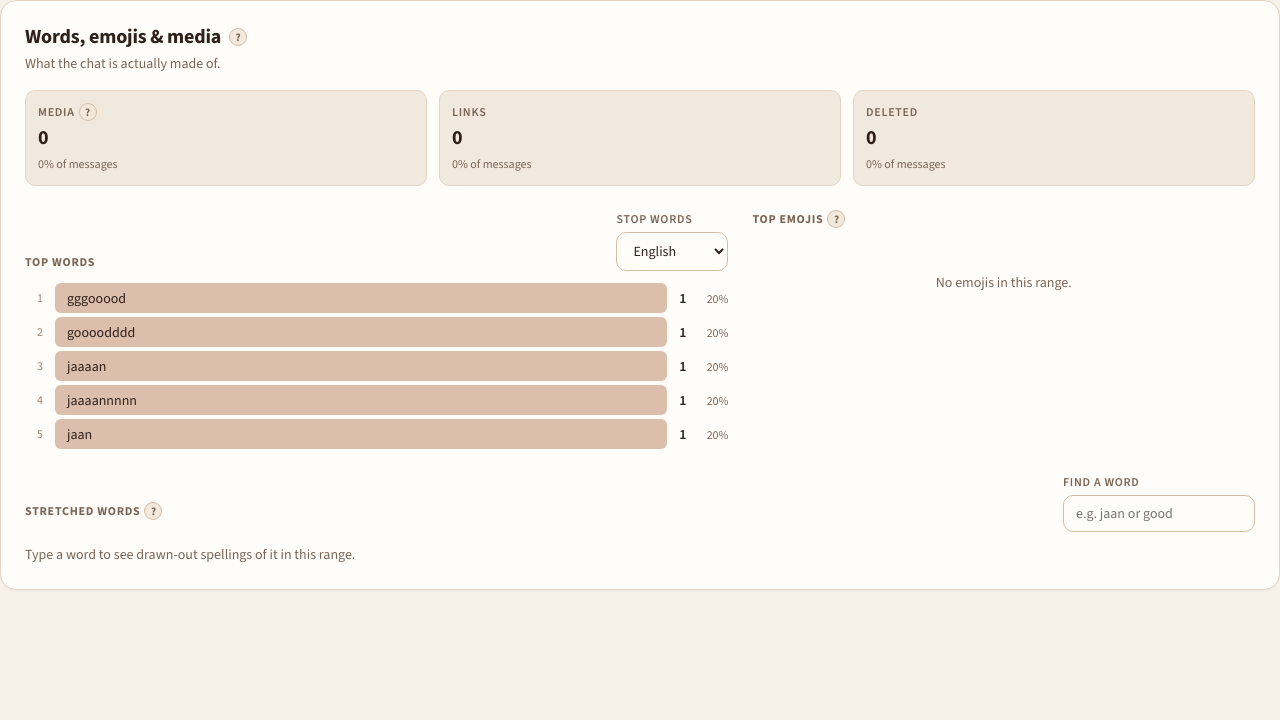
ContentSection › finds stretched spellings of a word the user types
Type "jaan" into the field named "find stretched spellings of a word" at (1159, 514), box [1063,495,1255,532]
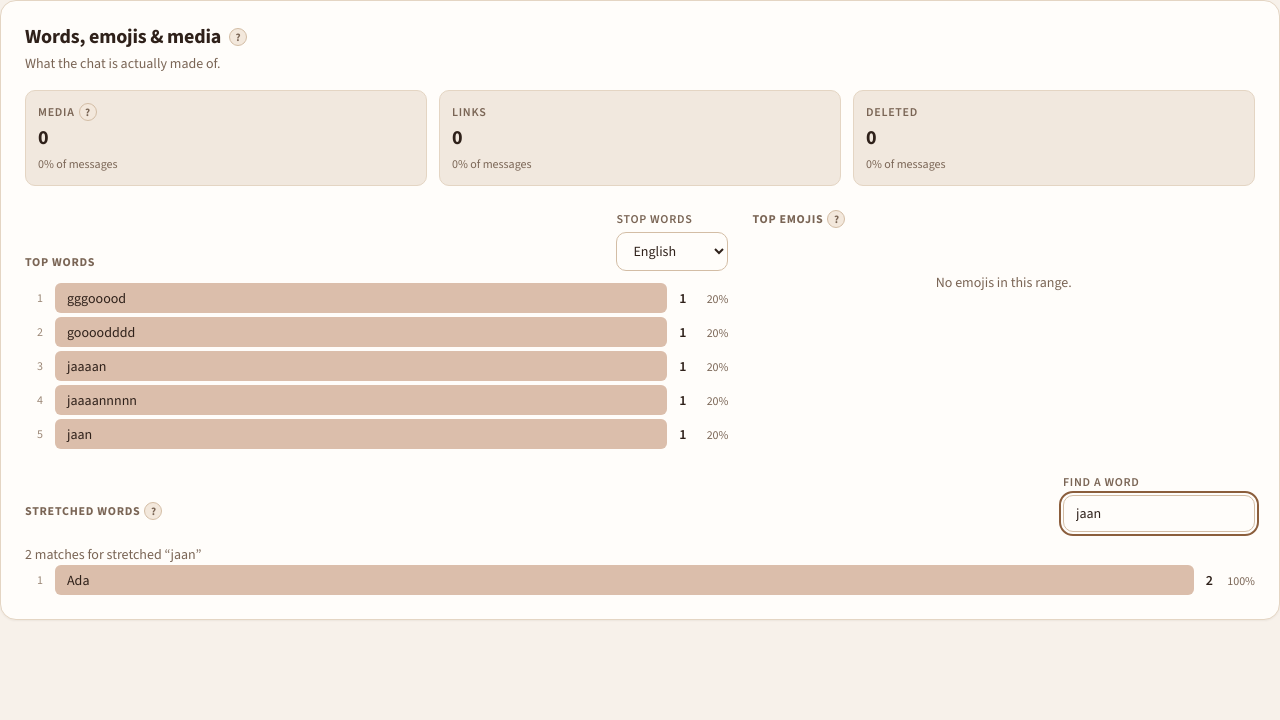
Expected: the element with class "stretch-block" does not show "Bob", [25,473,1255,595]
Expected: the element with class "stretch-block" shows "2 matches for stretched “jaan”", [25,473,1255,595]
Expected: the element with class "stretch-block" shows "Ada", [67,570,90,590]
Replace the text in the field named "find stretched spellings of a word" with "good" at (1159, 514), box [1063,495,1255,532]
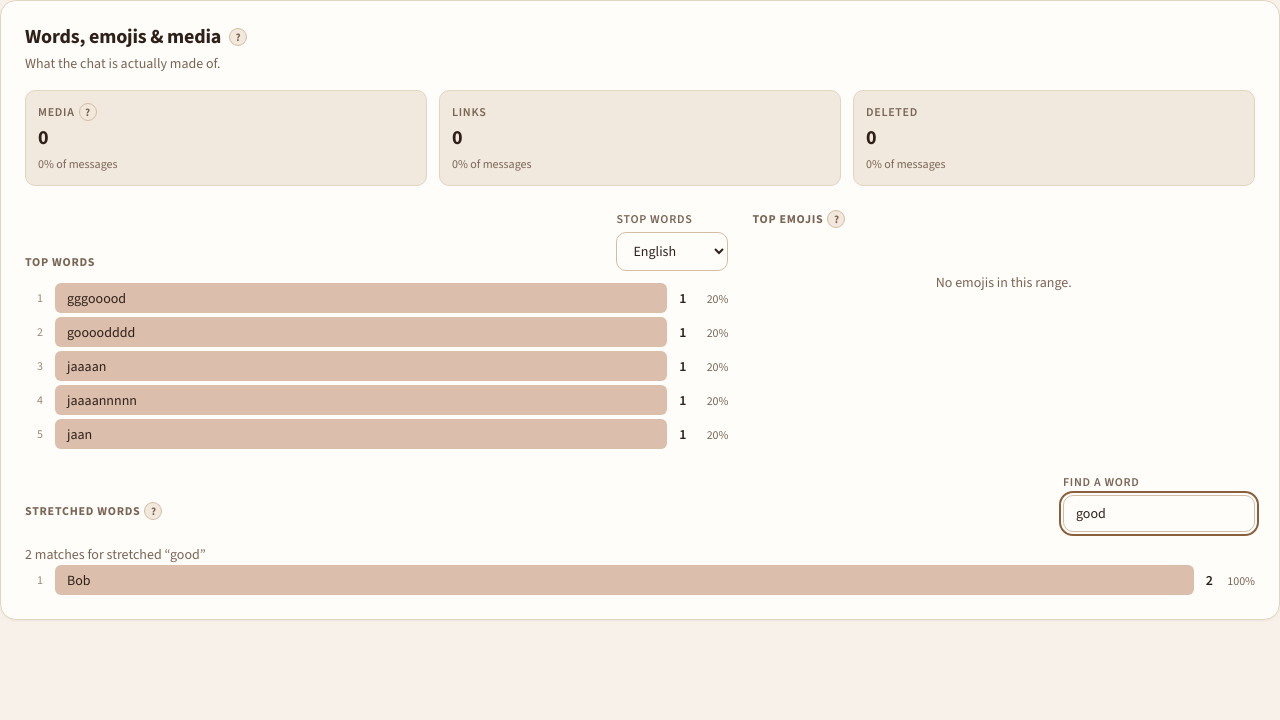
Expected: the element with class "stretch-block" does not show "Ada", [25,473,1255,595]
Expected: the element with class "stretch-block" shows "2 matches for stretched “good”", [25,473,1255,595]
Expected: the element with class "stretch-block" shows "Bob", [67,570,91,590]
